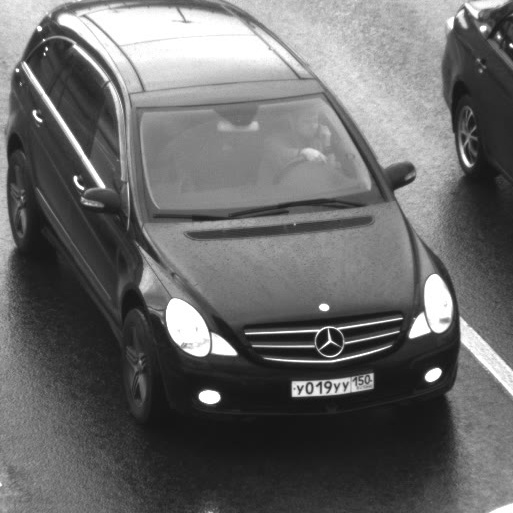plate: (279, 360, 381, 404)
